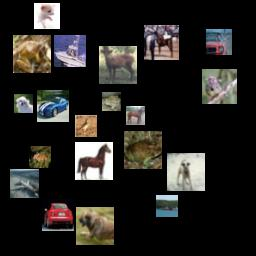airplane: (10, 169, 39, 198)
automobile: (42, 199, 74, 231), (37, 90, 69, 122), (206, 29, 232, 55)
bird: (202, 69, 237, 104), (75, 115, 97, 137)
deer: (99, 46, 137, 84), (29, 146, 51, 168)
dog: (76, 207, 114, 245), (167, 153, 205, 191), (34, 3, 60, 29), (14, 94, 33, 113)
frog: (124, 131, 162, 169), (13, 35, 51, 73), (102, 92, 121, 111)
ship: (54, 35, 86, 67), (156, 195, 178, 217)
